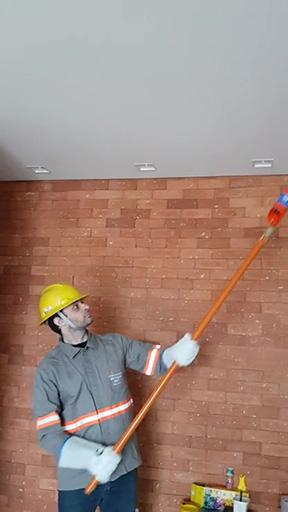Vara_Manobra: (84, 228, 273, 494)
